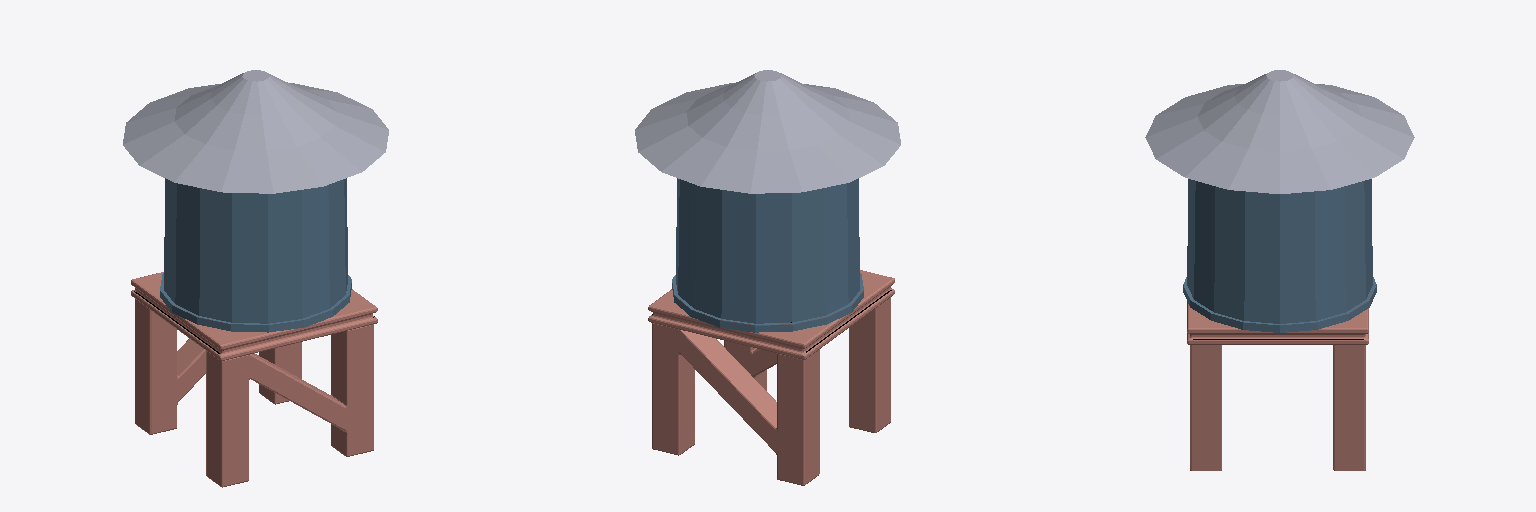
3 views of the same model, side by side, from view 1: azimuth 30°, elevation 25°; view 2: azimuth 150°, elevation 25°; view 3: azimuth 270°, elevation 25° (orthographic).
Parts seen in each view (by area): view 1: Water-Tower_Cylinder.005; view 2: Water-Tower_Cylinder.005; view 3: Water-Tower_Cylinder.005.
Part boxes in pixels (bbox=[...]): Water-Tower_Cylinder.005: bbox=[123, 70, 388, 487]; Water-Tower_Cylinder.005: bbox=[635, 70, 900, 485]; Water-Tower_Cylinder.005: bbox=[1145, 70, 1414, 470].
Bounding box in the file's own units: 2.37 × 3.5 × 2.37.
Materials: 3 (1 with a texture image).